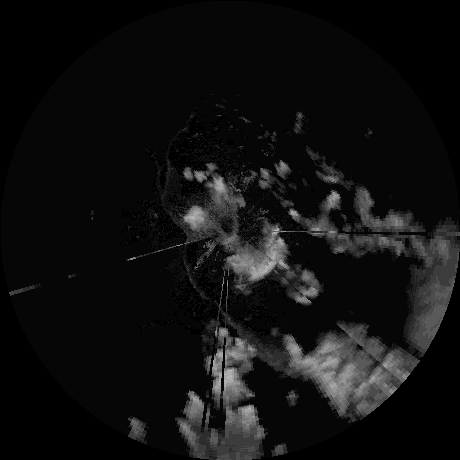frontgust: (178, 239, 235, 328), (160, 160, 192, 236)
